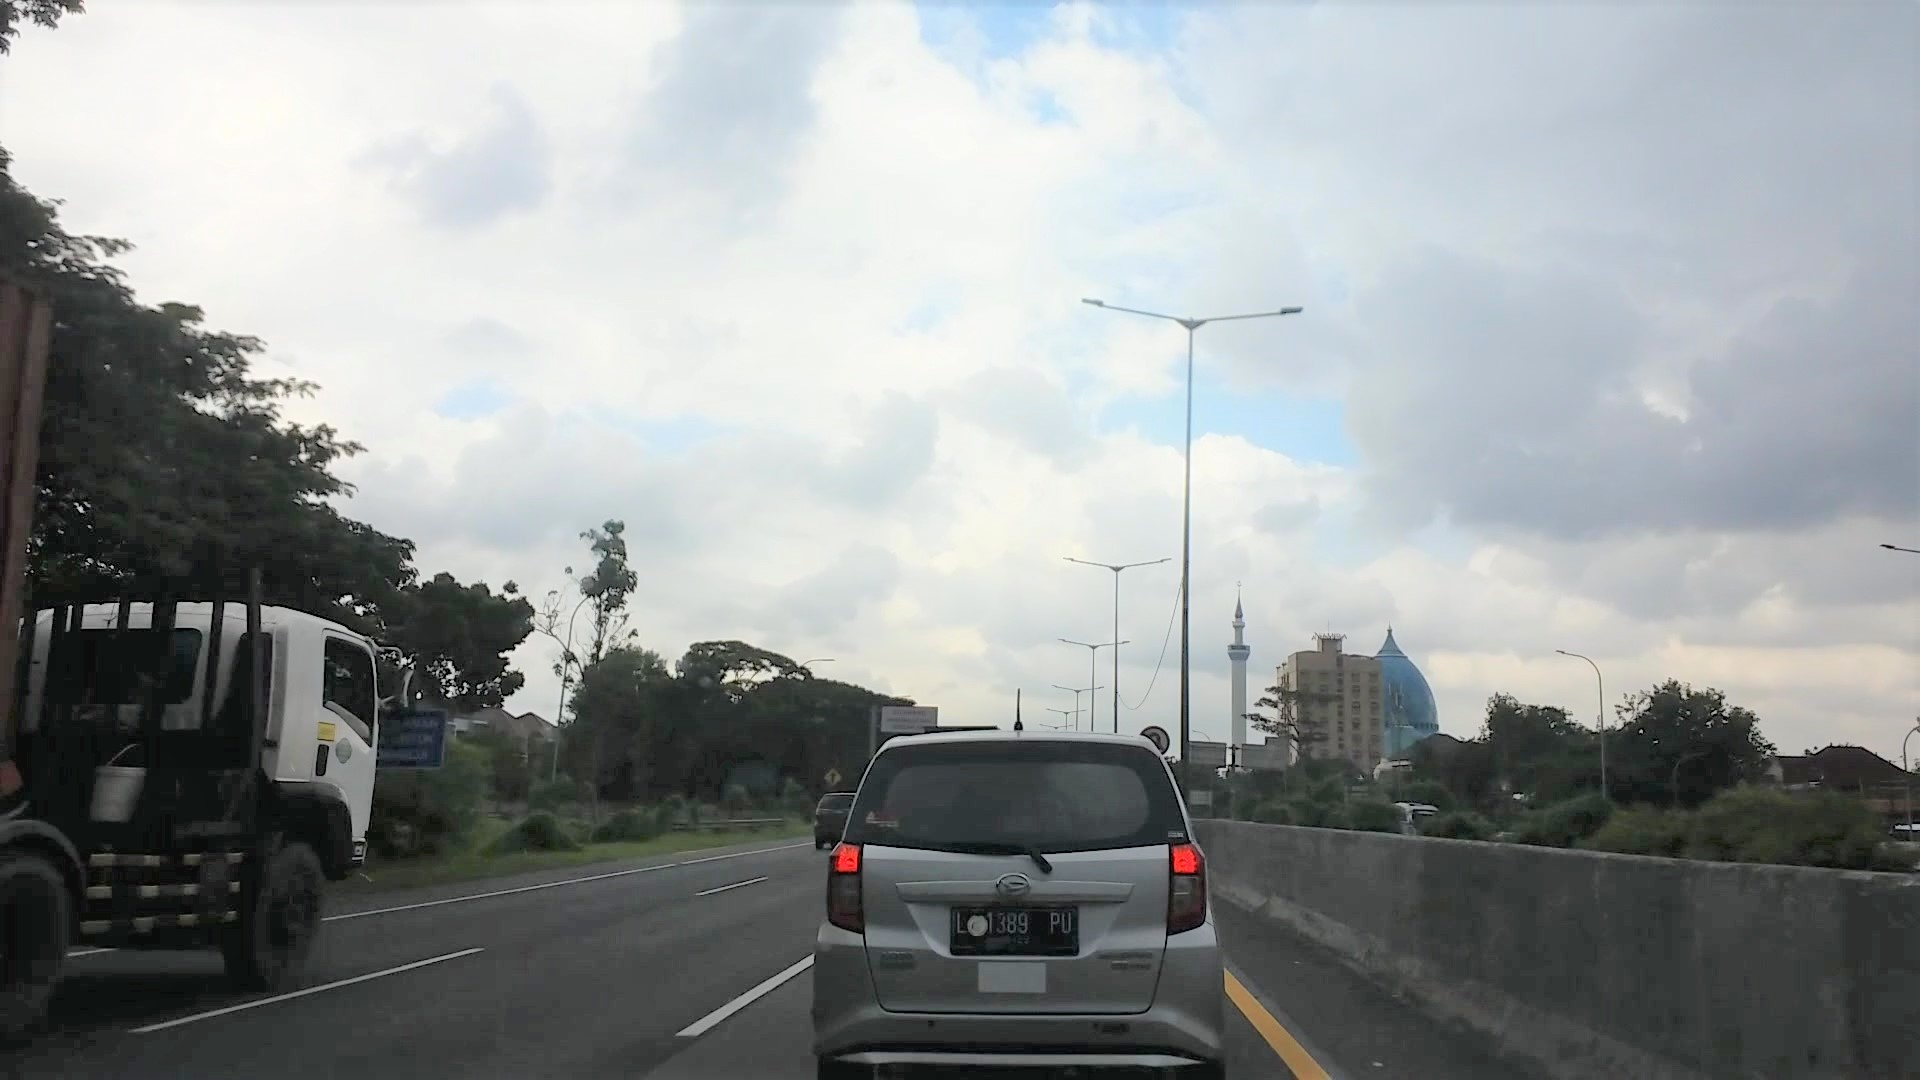plate_positive: (951, 905, 1077, 955)
